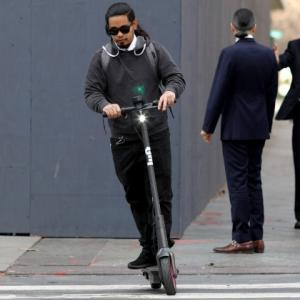with scooter: (85, 2, 186, 296)
without scooter: (200, 8, 278, 254)
